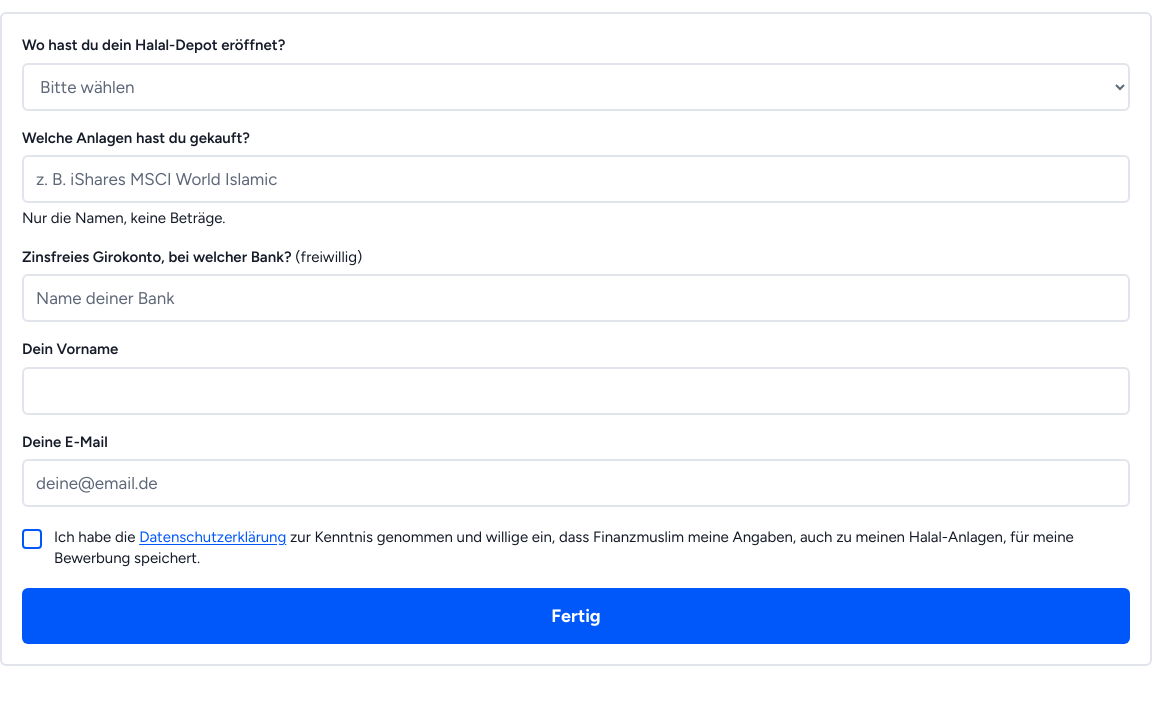
Test case: Bewerbung auf den Depot-Unterseiten (OsAnfrage) › blendet die Anlagen aus, wenn nur ein zinsfreies Girokonto da ist
The image size is (1152, 720).
Step 1. Select "Noch kein Depot, aber ein zinsfreies Girokonto" in the dropdown labelled "Wo hast du dein Halal-Depot eröffnet?" → (576, 86), box left=22, top=62, right=1130, bottom=110
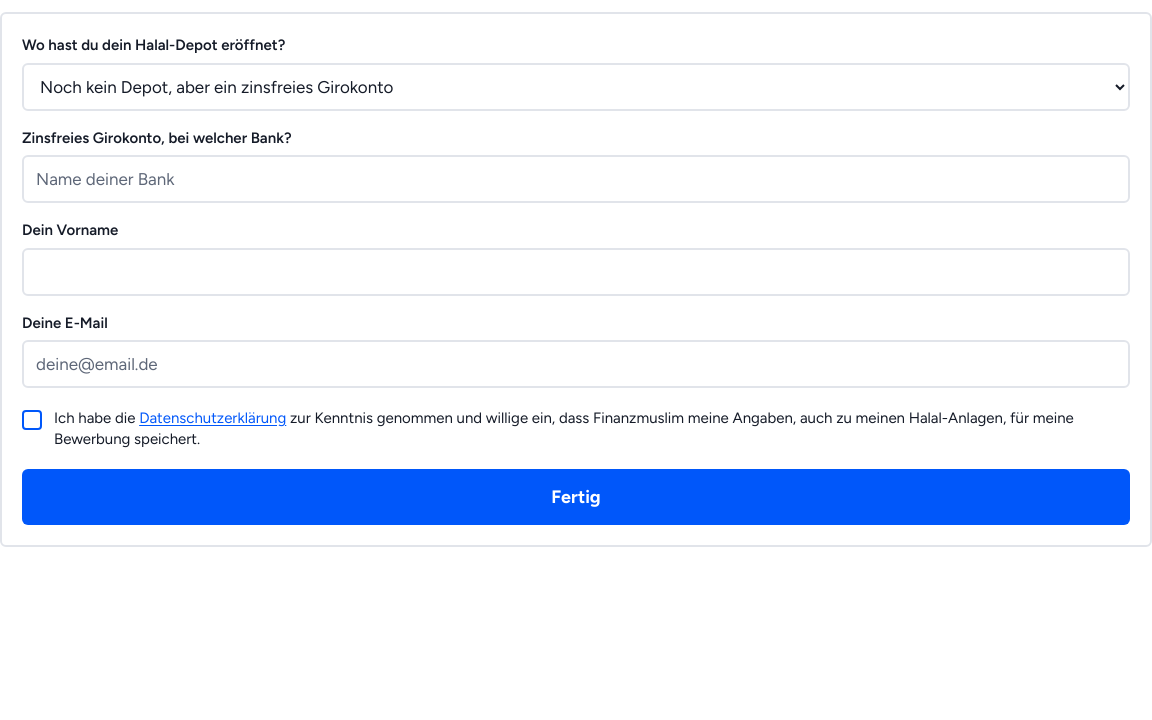
Now the field named "anlagen" is gone
